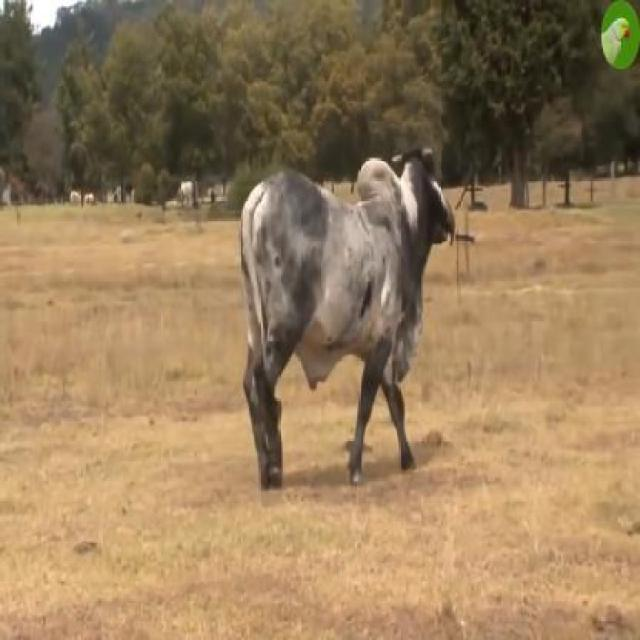Cow: (241, 155, 454, 491)
